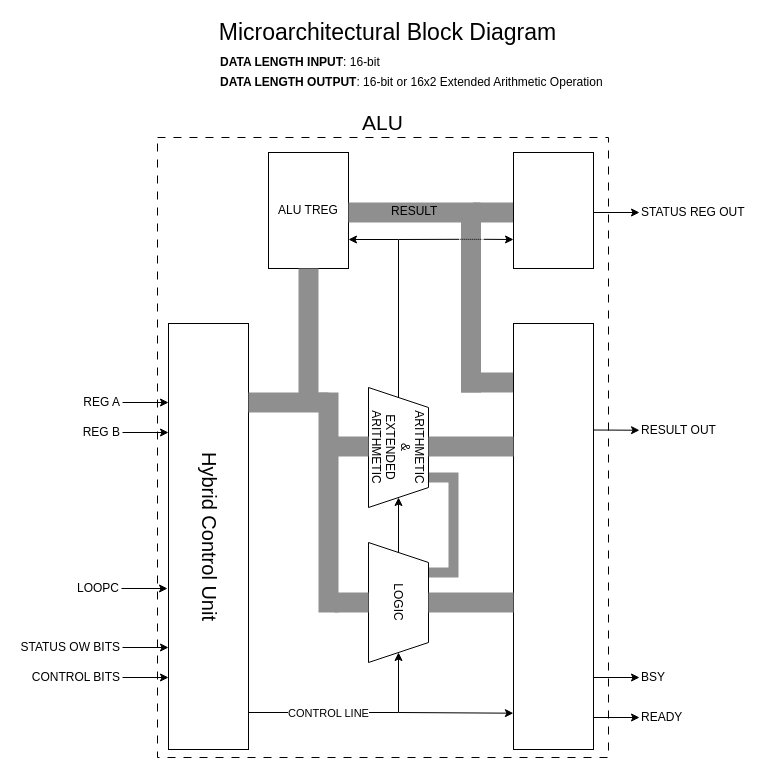
This 775x775 diagram has some shape labels left out. The shapes that lost their labels are listed below. From the top down, each one's centre as x and y in pixels, then its label:
At (x=553, y=210): "STATUS REG".
At (x=308, y=335): "REG BIDIR".
At (x=553, y=536): "ACCUMULATOR".
